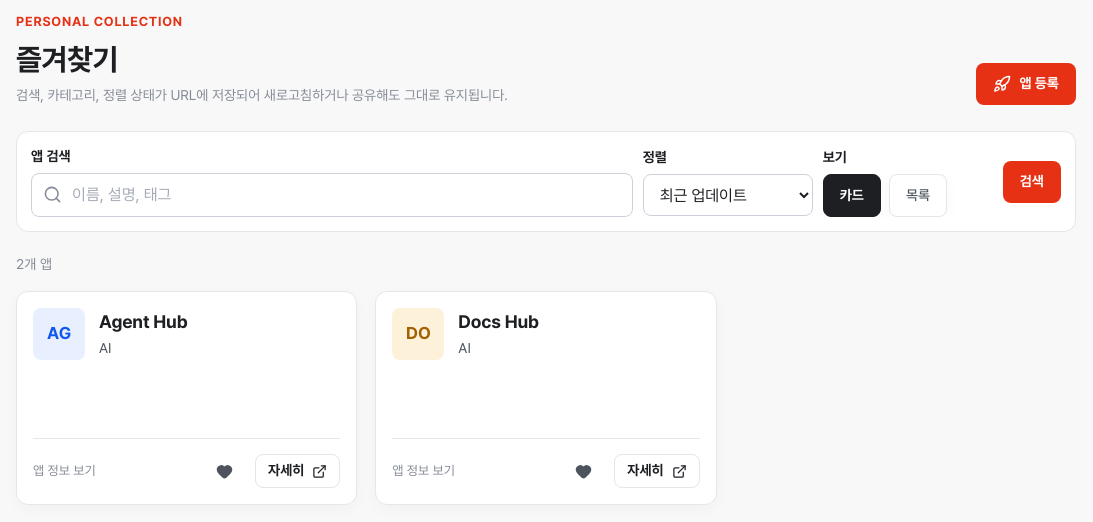
Test: Apps route state › removes an unfavorited card on /favorites without reloading the list
Click the button named "Agent Hub 즐겨찾기 해제". click: (224, 471)
box: [203,454,246,488]
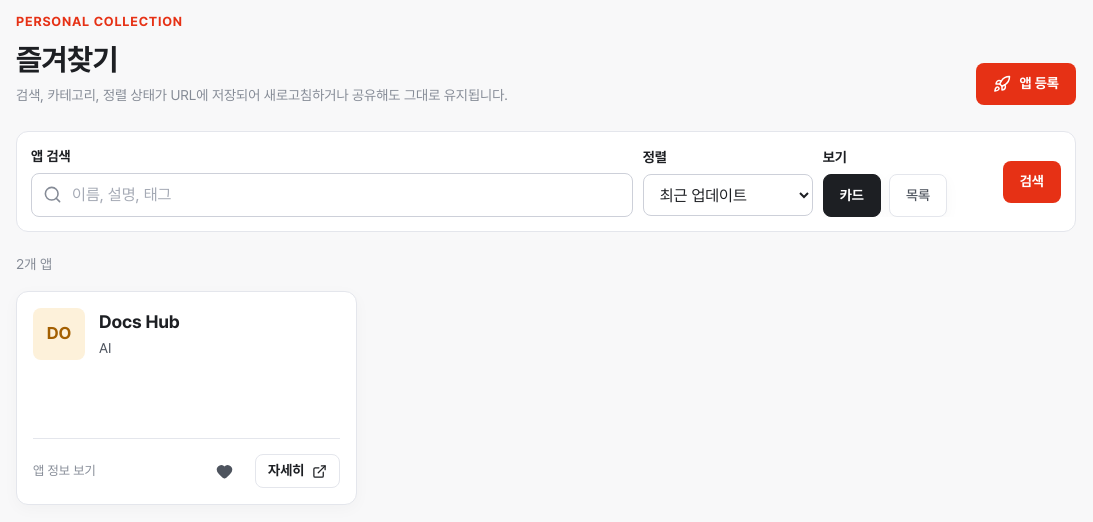
Expected: the heading "Docs Hub" is shown, [99,309,180,335]
Expected: the link "Agent Hub" is gone
